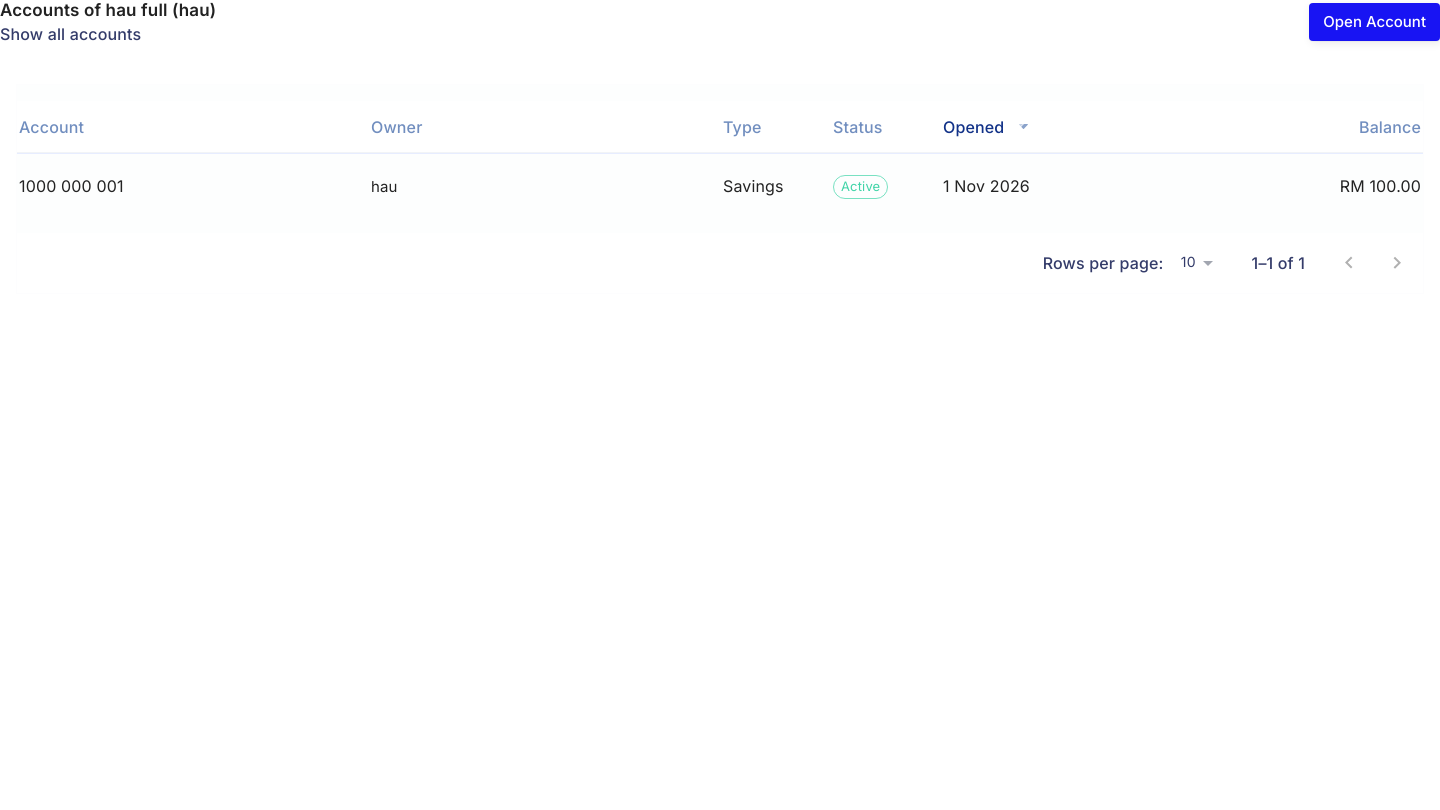
Test: admin accounts page › shows one user's accounts and opens a new one for them
Check: the heading "Accounts of hau full (hau)" is shown, box 0,0 -> 216,21
Check: the text "1000 000 001" is shown, box 19,176 -> 124,196
Click the button "Open account" at (1375, 22), box 1309,3 -> 1439,41
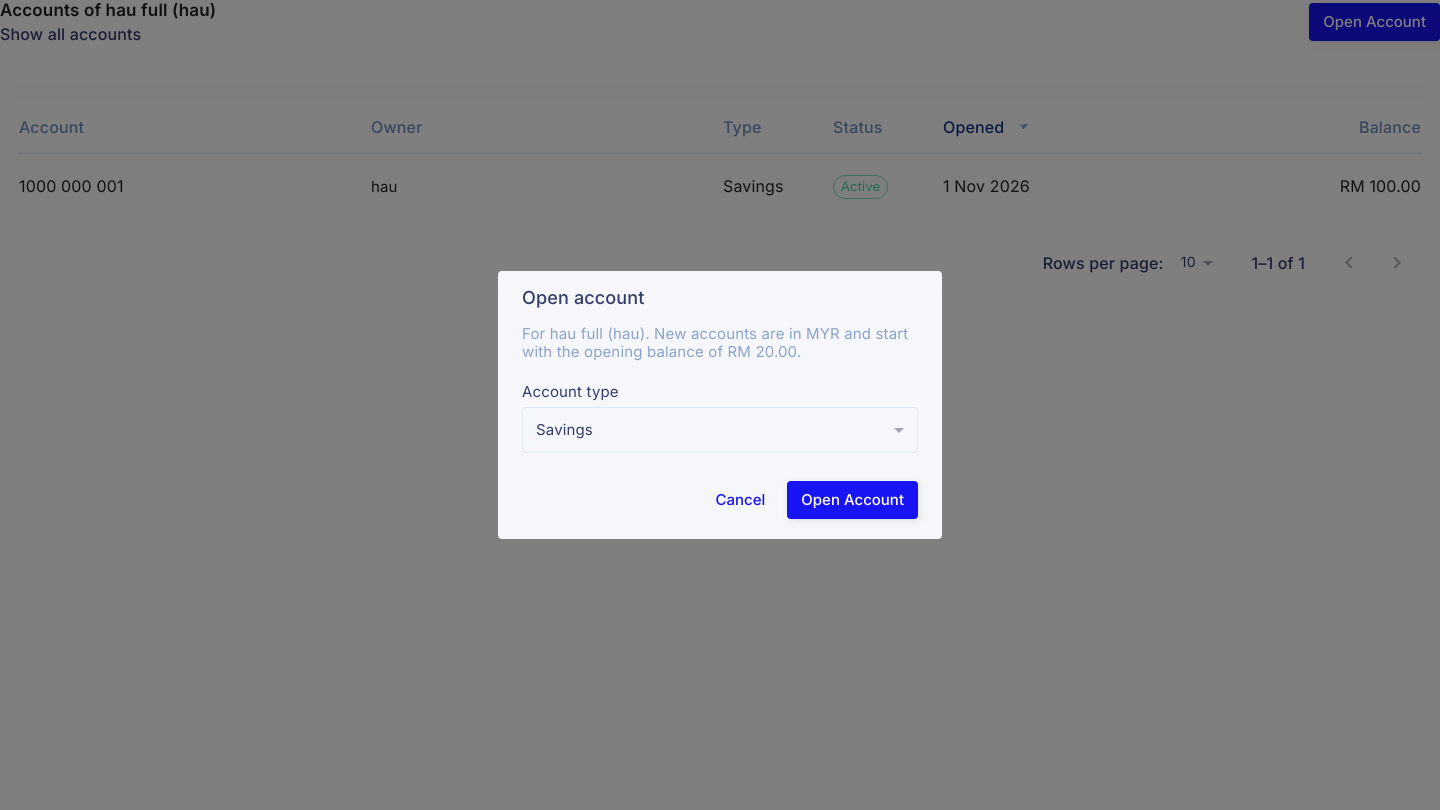
Click the dropdown named "account type" at (564, 430), box 536,420 -> 593,439
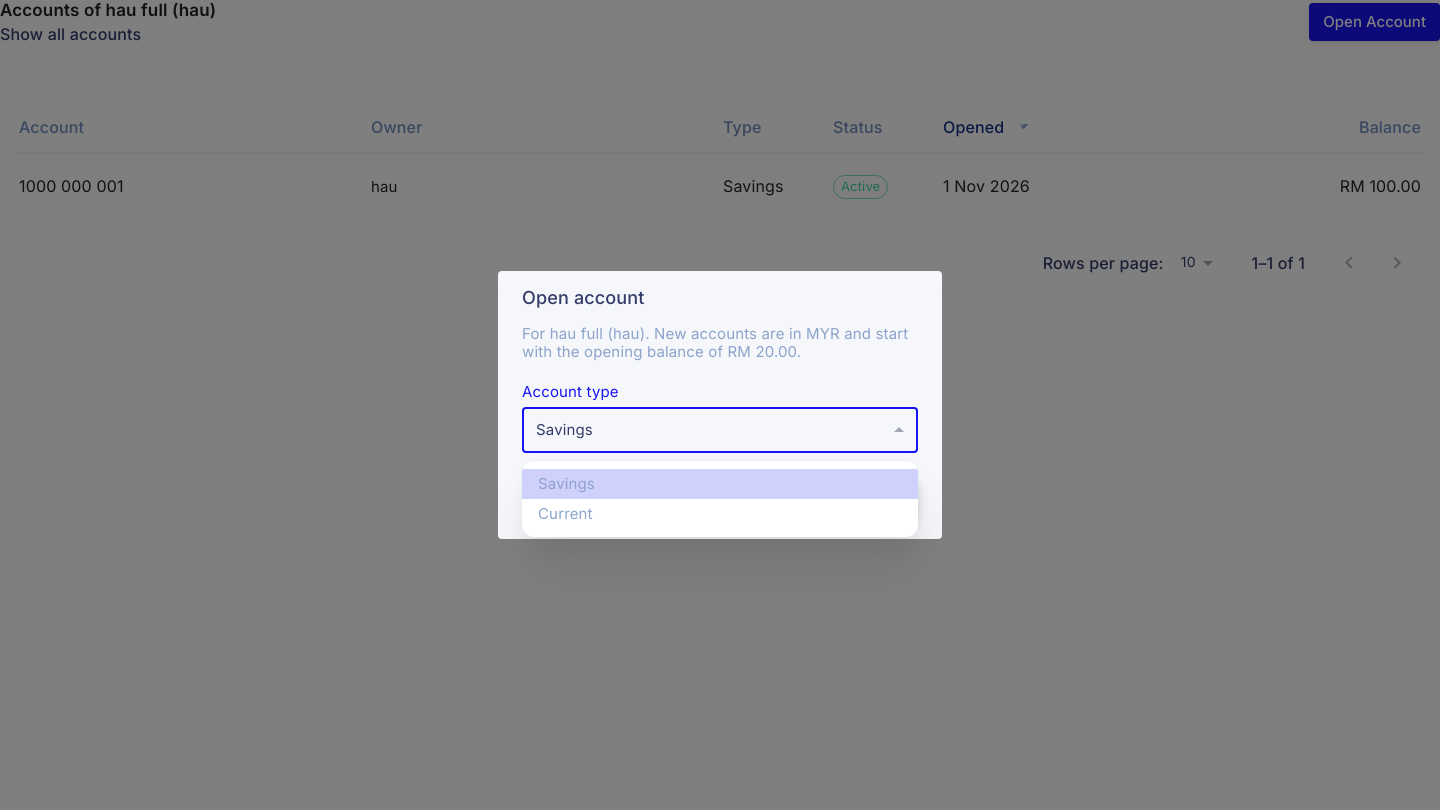
Click the option "Current" at (565, 514), box 538,504 -> 593,523
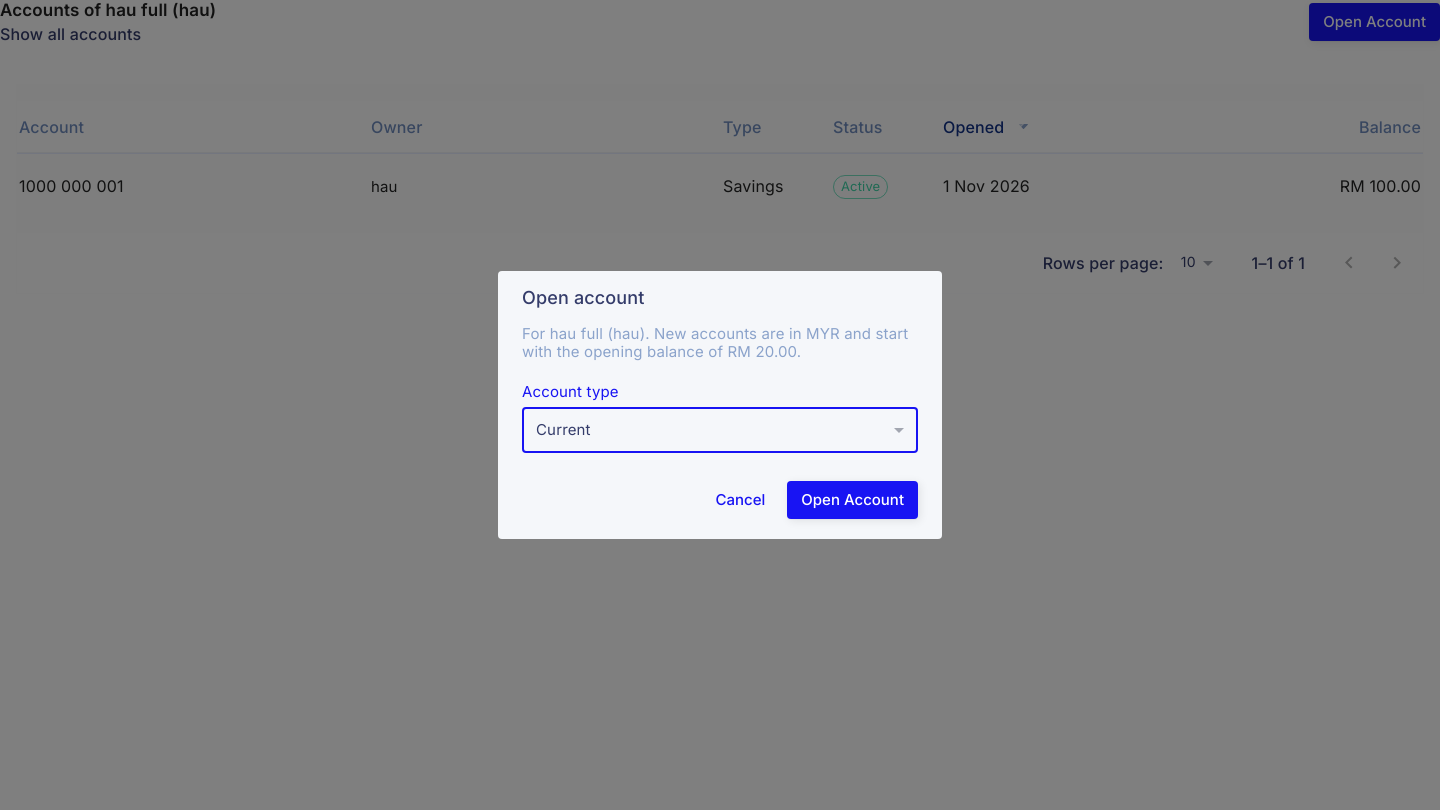
Click the button "Open account" at (853, 500), box 787,481 -> 918,519
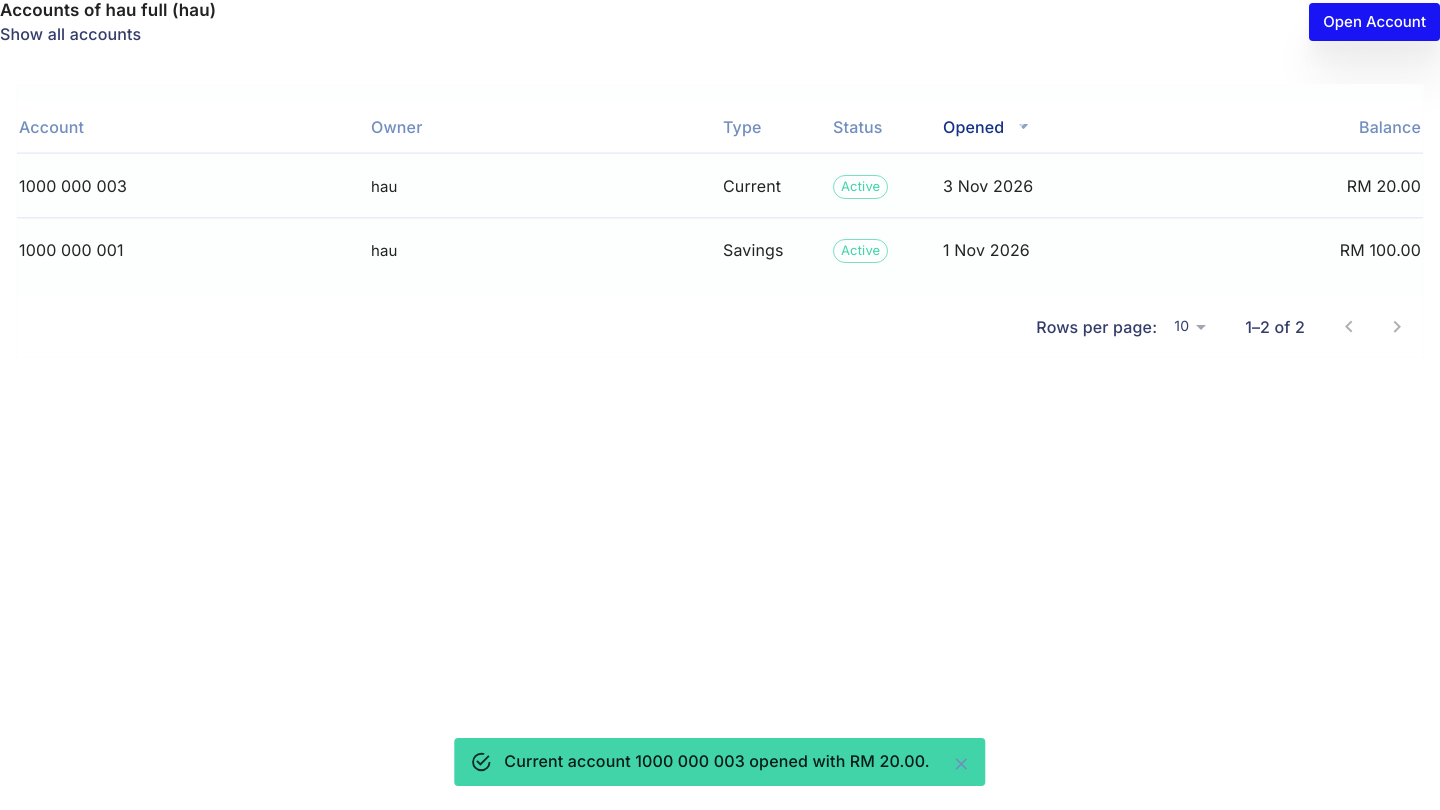
Check: the text "Current account 1000 000 003 opened with RM 20.00." is shown, box 504,751 -> 930,771
Check: the text "1000 000 003" is shown, box 19,176 -> 127,196
